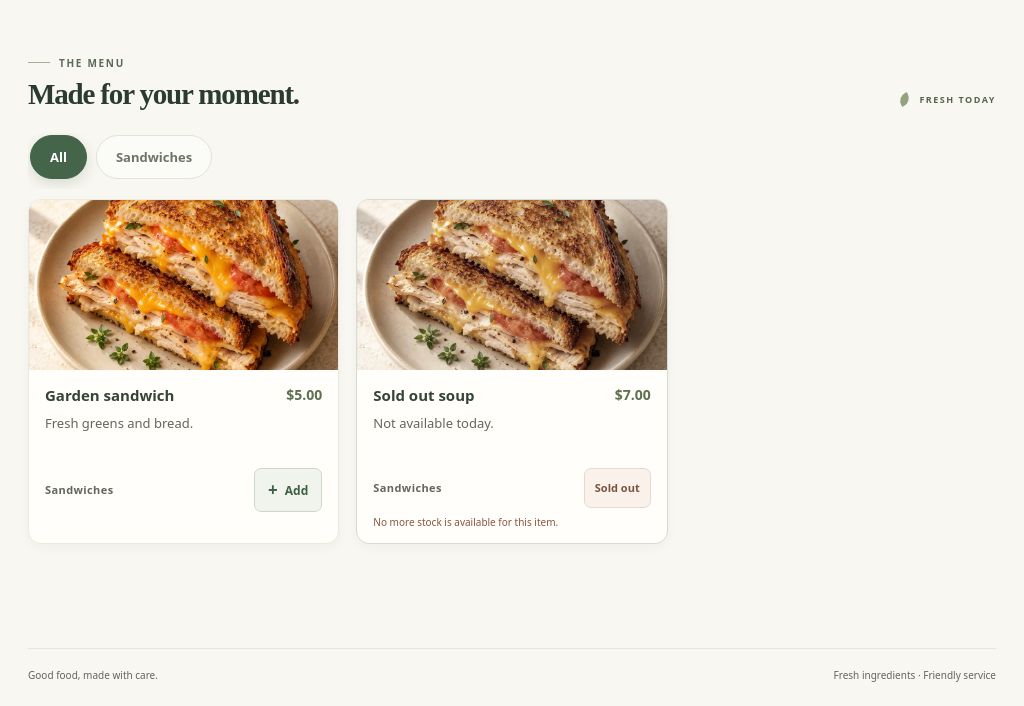
Test case: checkout client acceptance criteria › AC-R3 requires explicit consent when a refreshed server quote changes the item price
(page scrolled)
Step 1. Click the button with aria-label "Add Garden sandwich" → (288, 490), box [254,468,322,512]
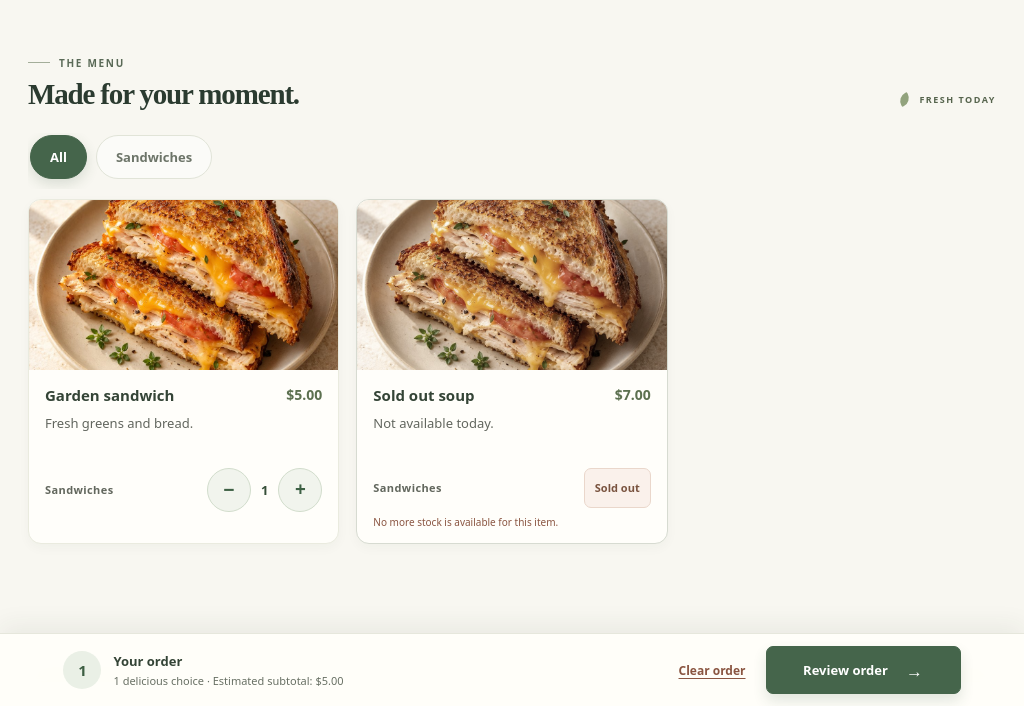
Step 2. Click the button "Review order →" → (863, 670), box [766,646,960,694]
(page scrolled)
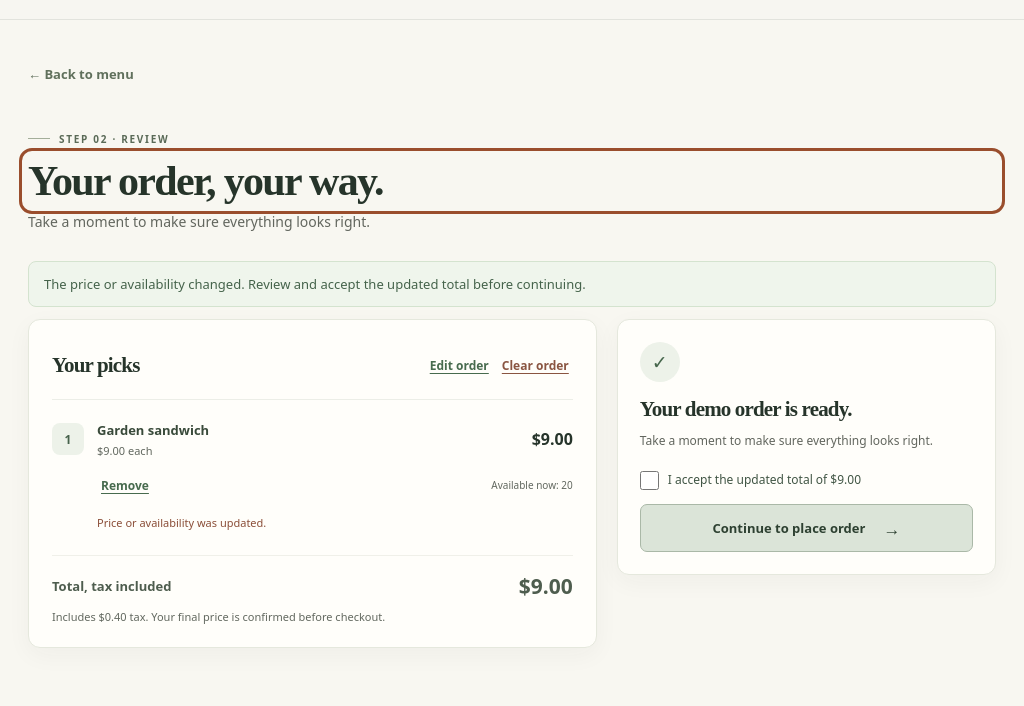
Expected: the button "Continue to place order →" is disabled, [640,504,973,552]
Step 3. Click the checkbox labelled "I accept the updated total of $9.00" → (649, 481), box [640,471,659,490]
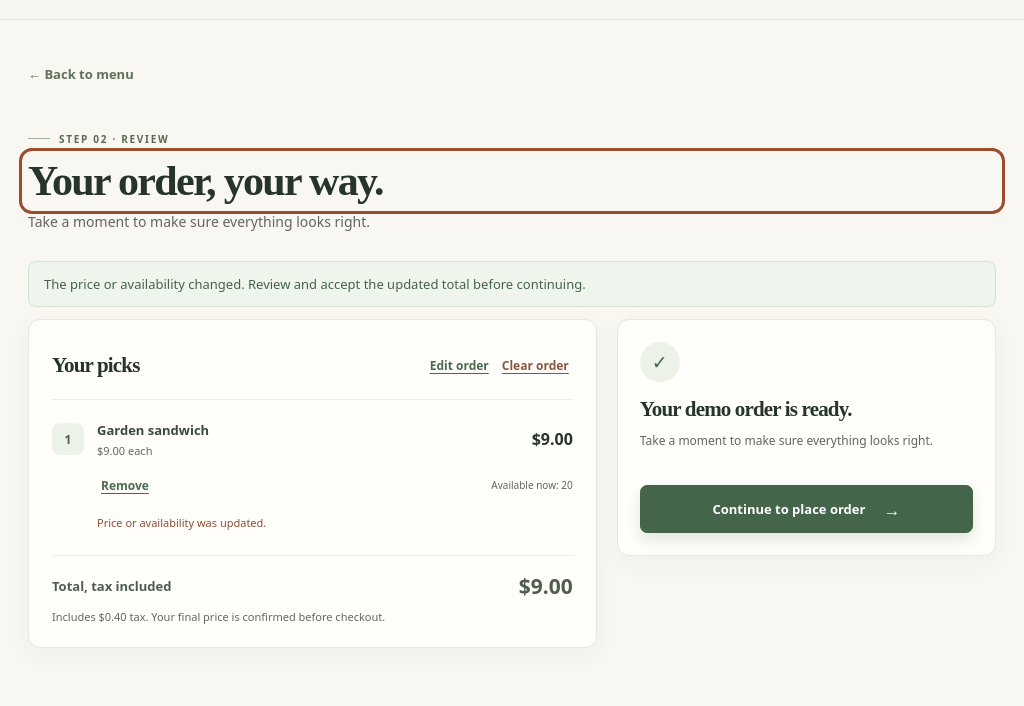
Expected: the button "Continue to place order →" is enabled
Step 4. Click the button "Continue to place order →" → (806, 509), box [640,485,973,533]
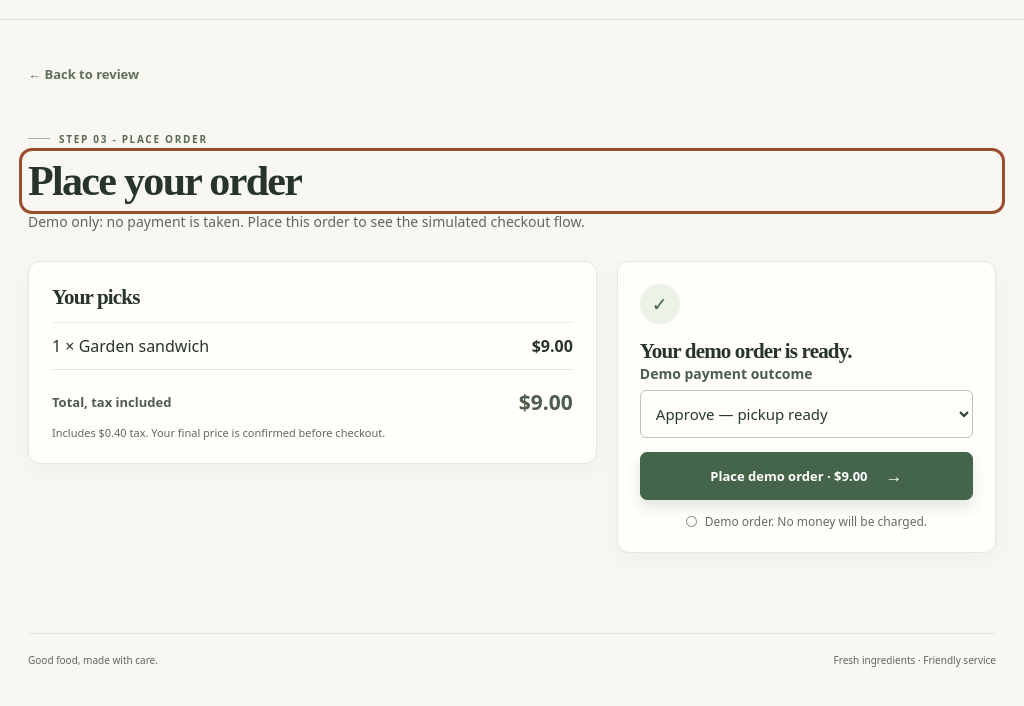
Expected: the heading "Place your order" is shown, [28,158,301,204]
